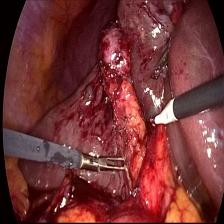Grasper: (79, 145, 131, 180)
Hook: (147, 96, 180, 131)
